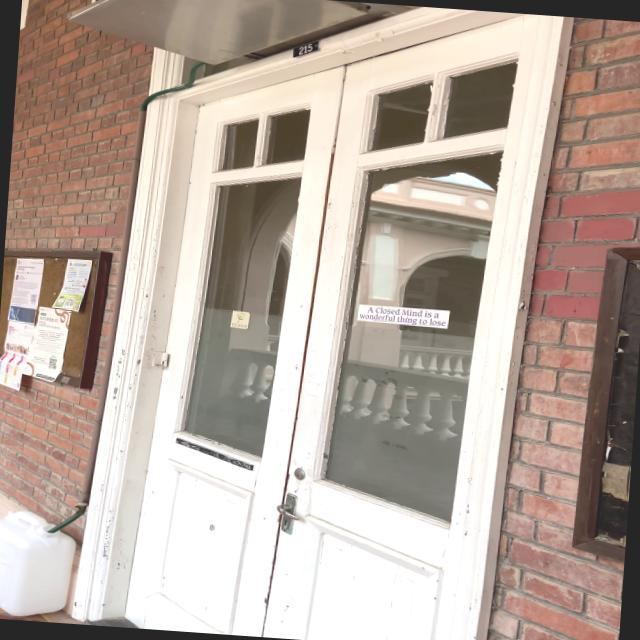room215: (292, 38, 319, 60)
